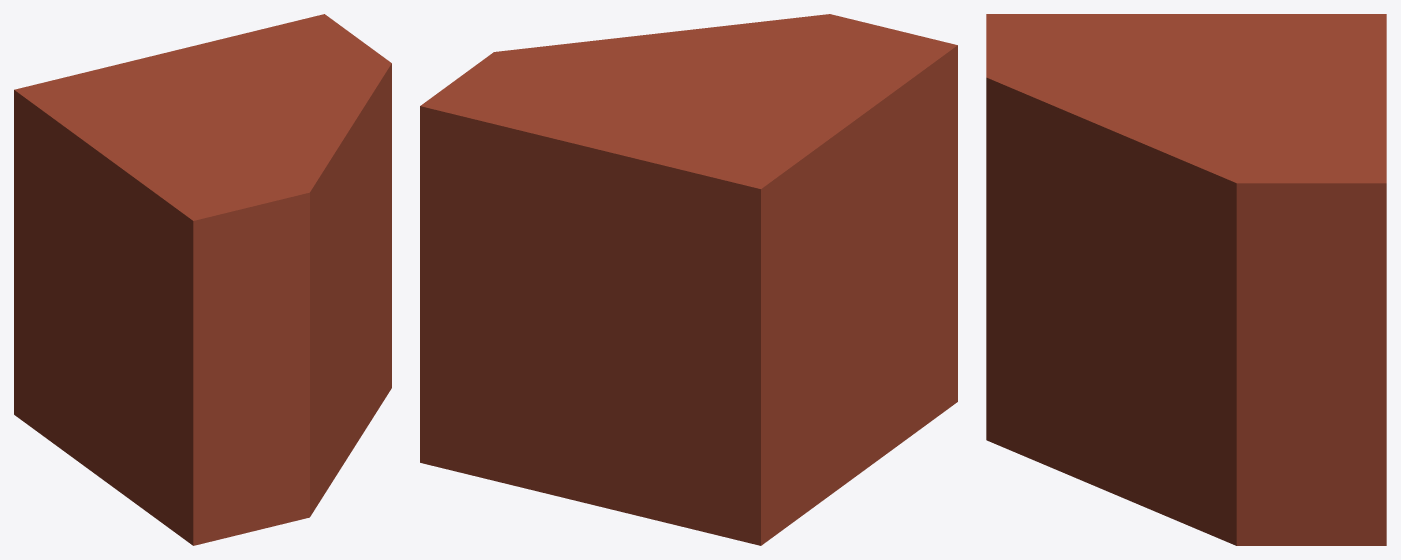
Rendered from r3c8_body_brown.gltf.
The picture shows the model from 3 angles, left to right: view 1: azimuth 30°, elevation 25°; view 2: azimuth 150°, elevation 25°; view 3: azimuth 270°, elevation 25°; orthographic projection. The views are drawn at different scales.
Parts seen in each view (by area): view 1: r3c8_body_brown; view 2: r3c8_body_brown; view 3: r3c8_body_brown.
Part boxes in pixels (x1=…): r3c8_body_brown: x1=14, y1=14, x2=391, y2=545; r3c8_body_brown: x1=420, y1=14, x2=957, y2=545; r3c8_body_brown: x1=986, y1=14, x2=1386, y2=545.
Size of what is drawn, in the model's own units: 2 by 2 by 2.
Materials: 1 (1 with a texture image).
